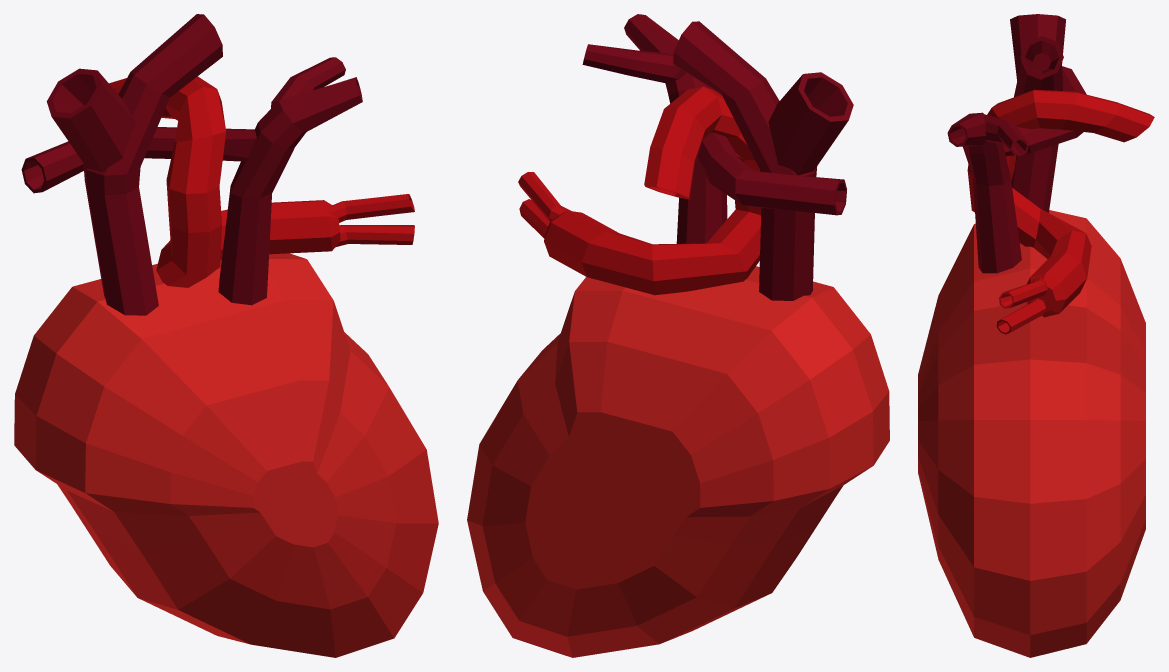
The model's file is heart.fbx.
The picture shows the model from 3 angles, left to right: view 1: azimuth 30°, elevation 25°; view 2: azimuth 150°, elevation 25°; view 3: azimuth 270°, elevation 25°; orthographic projection. The views are drawn at different scales.
Visible parts, largest first — view 1: Heart; view 2: Heart; view 3: Heart.
Part boxes in pixels (x1,y1,x2,y2): Heart: (14,14,438,657); Heart: (467,14,889,657); Heart: (918,14,1154,657).
Size of the model in its own units: 273 by 442 by 169.
